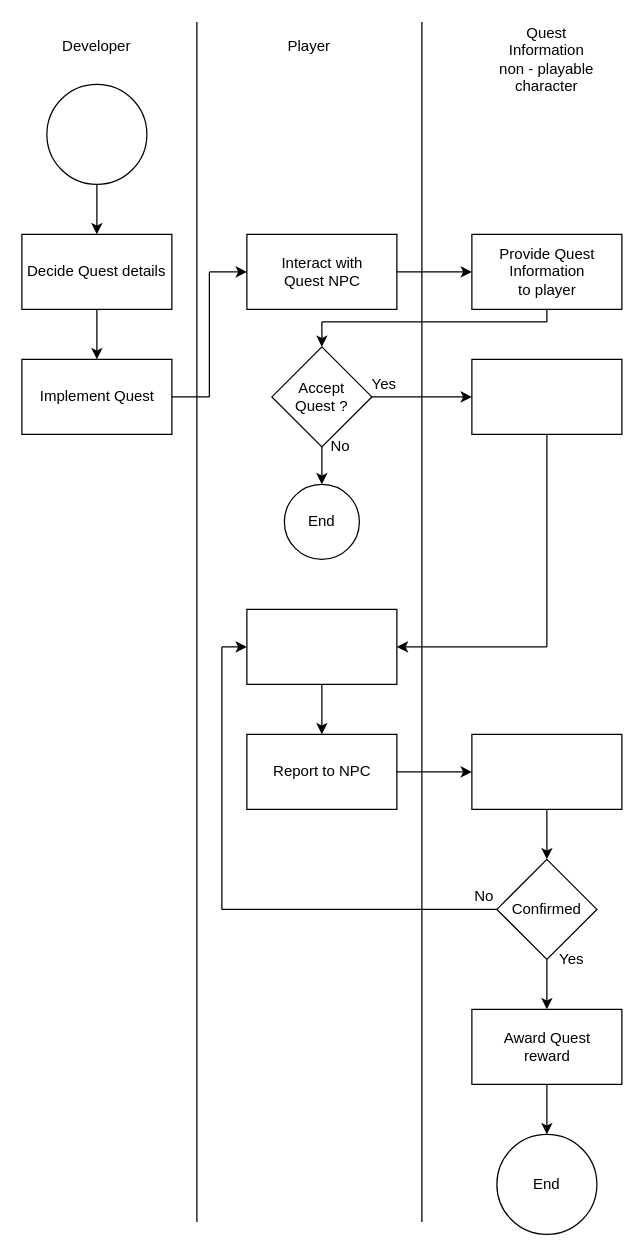
This 644x1256 diagram has some shape labels left out. The shapes that lost their labels are listed below. From the top down, each one's box as (x1, y1, x2, y2) in pixels, then its label:
(46, 83, 147, 184): Start
(471, 358, 622, 434): Acknowledge player Acceptance
(246, 608, 397, 684): Complete Quest Requirements
(471, 733, 622, 809): Confirm Completion
